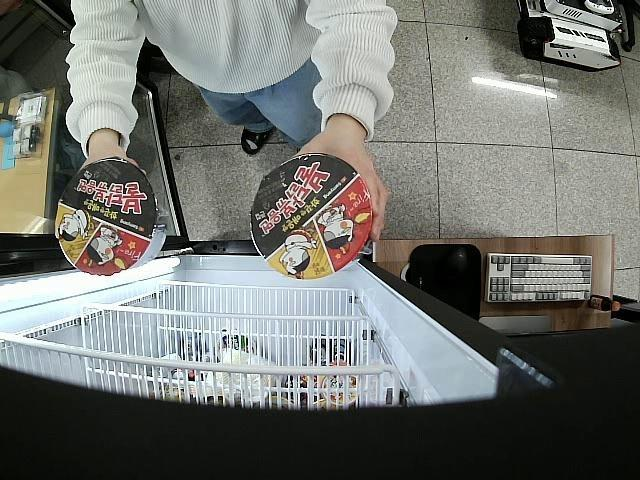07_buldak_L: (251, 150, 374, 277), (56, 160, 170, 276)
